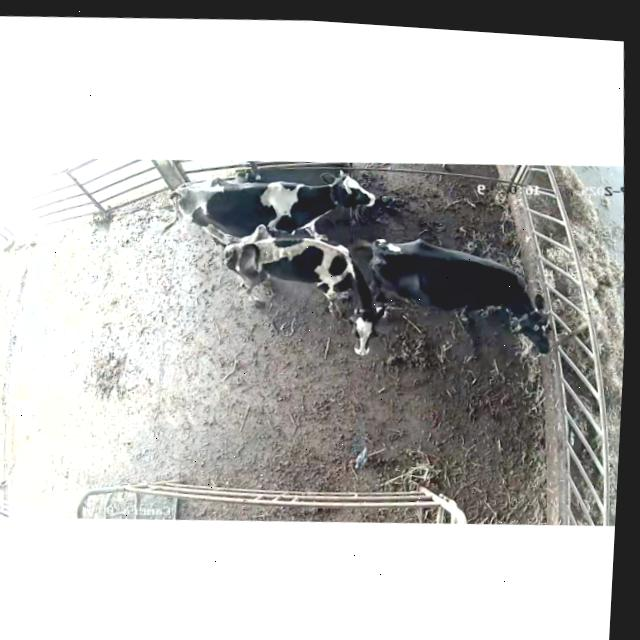stand: (224, 224, 385, 355), (370, 237, 550, 353), (170, 169, 376, 244)
